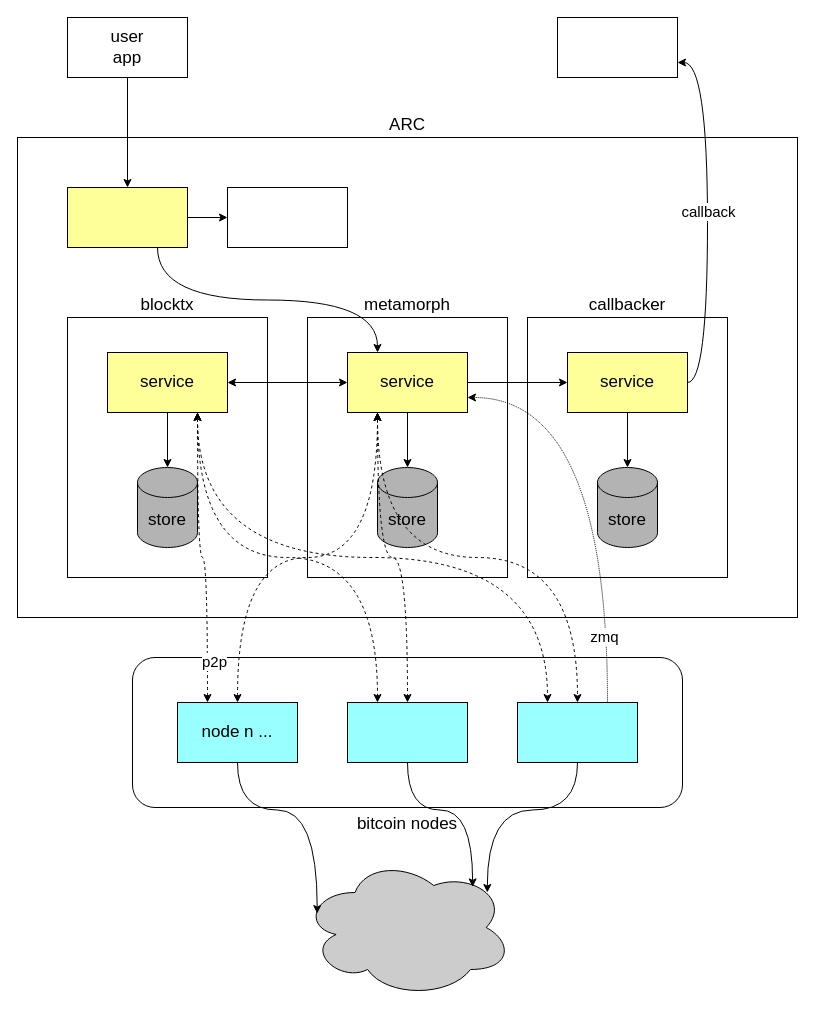
This 815x1015 diagram has some shape labels left out. Here are the shapes that lost their labels. From the top down, the centre of each, then its label:
At point (617, 47): "user backend".
At point (127, 217): "API".
At point (287, 217): "validation".
At point (407, 732): "node 2".
At point (577, 732): "node 1".
At point (407, 927): "p2p network".
